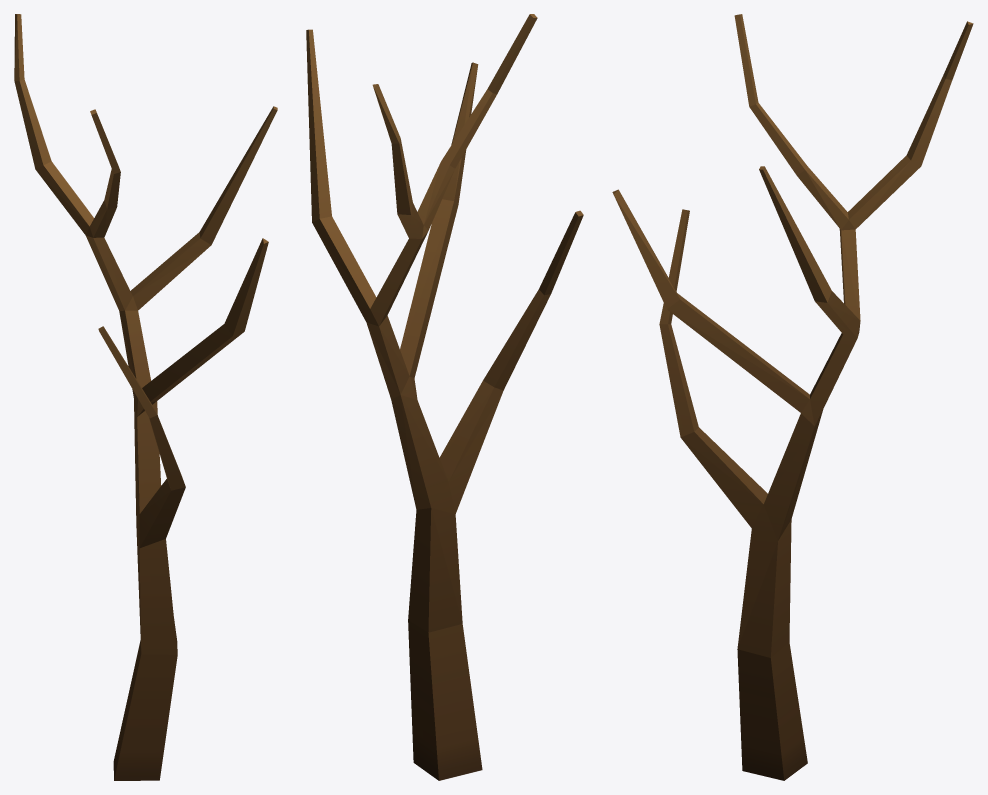
Rendered from Tree_04.fbx.
3 views of the same model, side by side, from view 1: azimuth 30°, elevation 25°; view 2: azimuth 150°, elevation 25°; view 3: azimuth 270°, elevation 25° (orthographic). The views are drawn at different scales.
Visible parts, largest first — view 1: Tree_04; view 2: Tree_04; view 3: Tree_04.
Boxes of the visible parts, x1,y1,x2,y2 form: Tree_04: (14,14,277,780); Tree_04: (306,14,583,780); Tree_04: (612,14,973,780).
Bounding box in the file's own units: 96.86 × 299 × 134.
